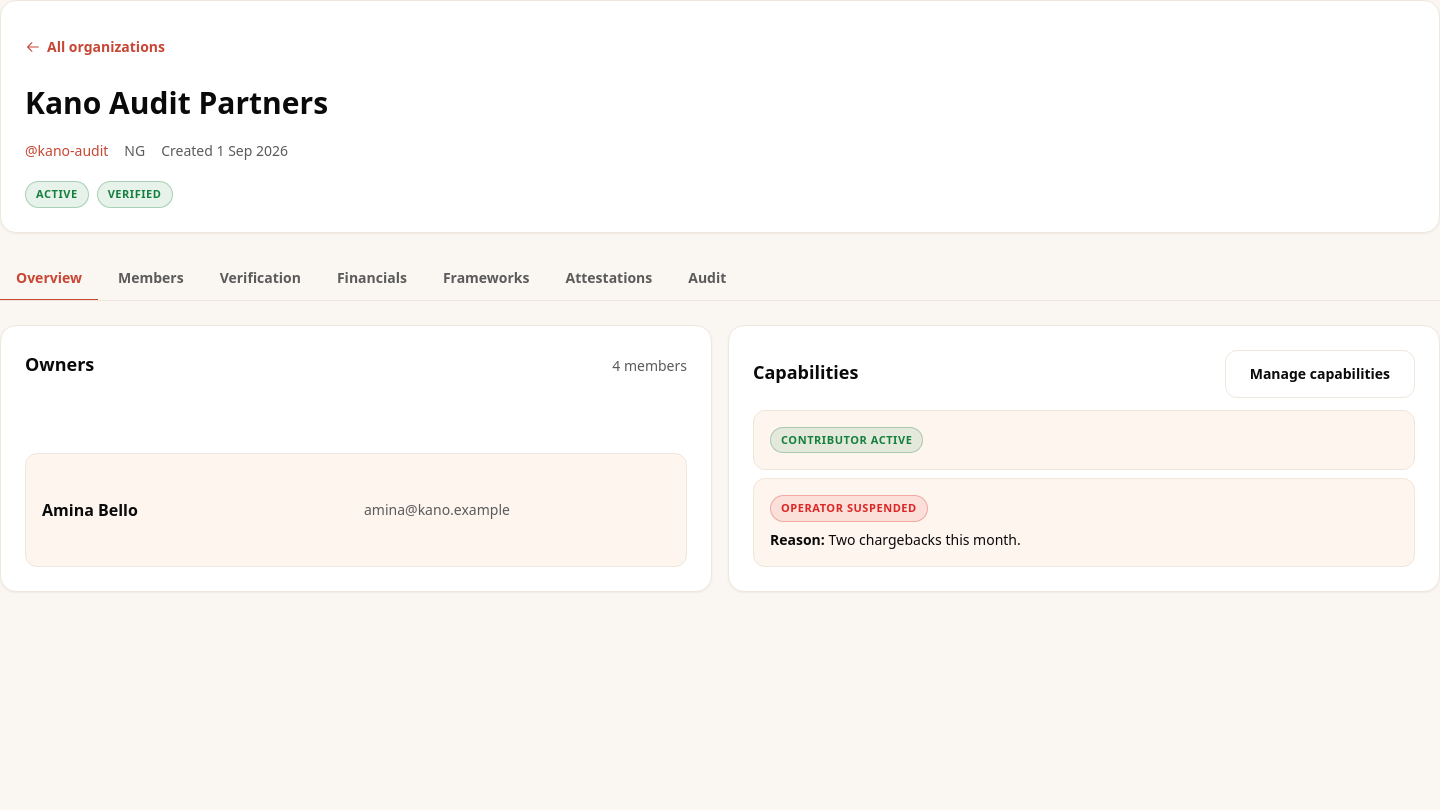
AdminOrganizationDetailPage › links verification documents with the expiry and audit note
The width and height of the screenshot is (1440, 810).
Expected: the heading "Kano Audit Partners" is shown, x1=25 y1=82 x2=328 y2=123
Click the tab "Verification". click: (260, 278)
box: x1=204 y1=256 x2=317 y2=300
(page scrolled)
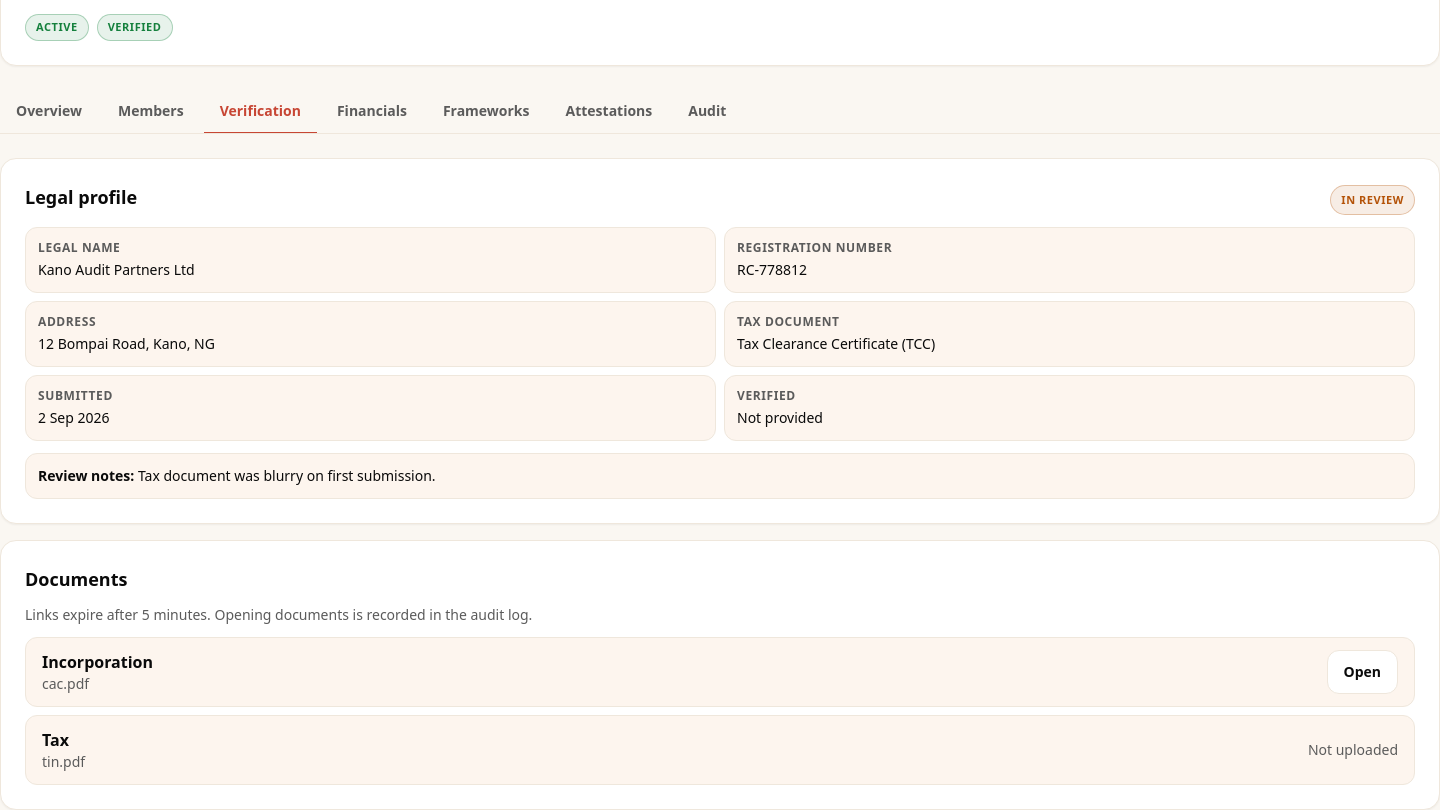
Now the panel shows "Links expire after 5 minutes. Opening documents is recorded in the audit log.", box x1=25 y1=604 x2=532 y2=624
Now the panel shows "Not uploaded", box x1=1308 y1=740 x2=1398 y2=758
Now the panel shows "RC-778812", box x1=737 y1=260 x2=807 y2=278
